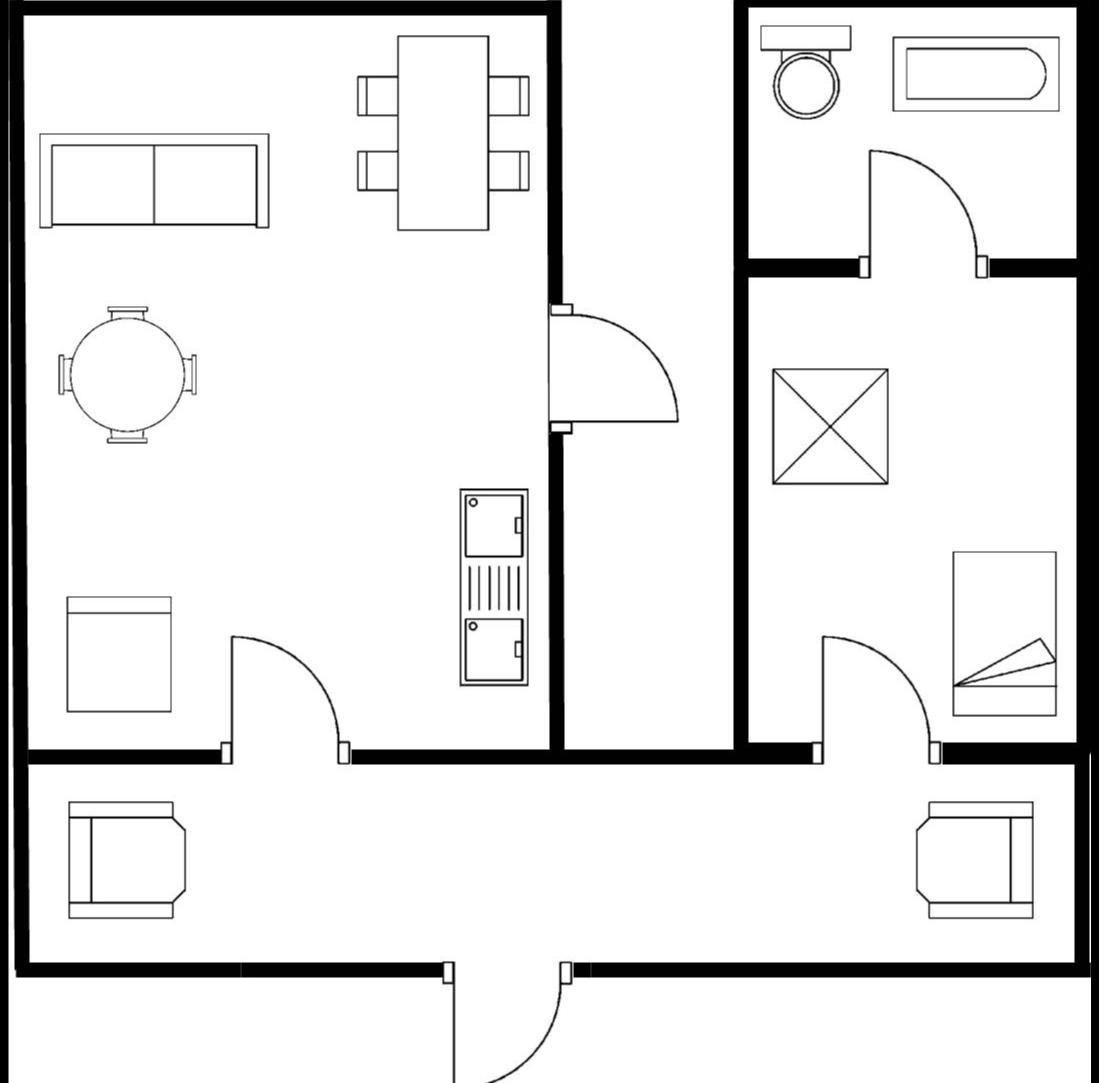sink: (449, 484, 538, 692)
